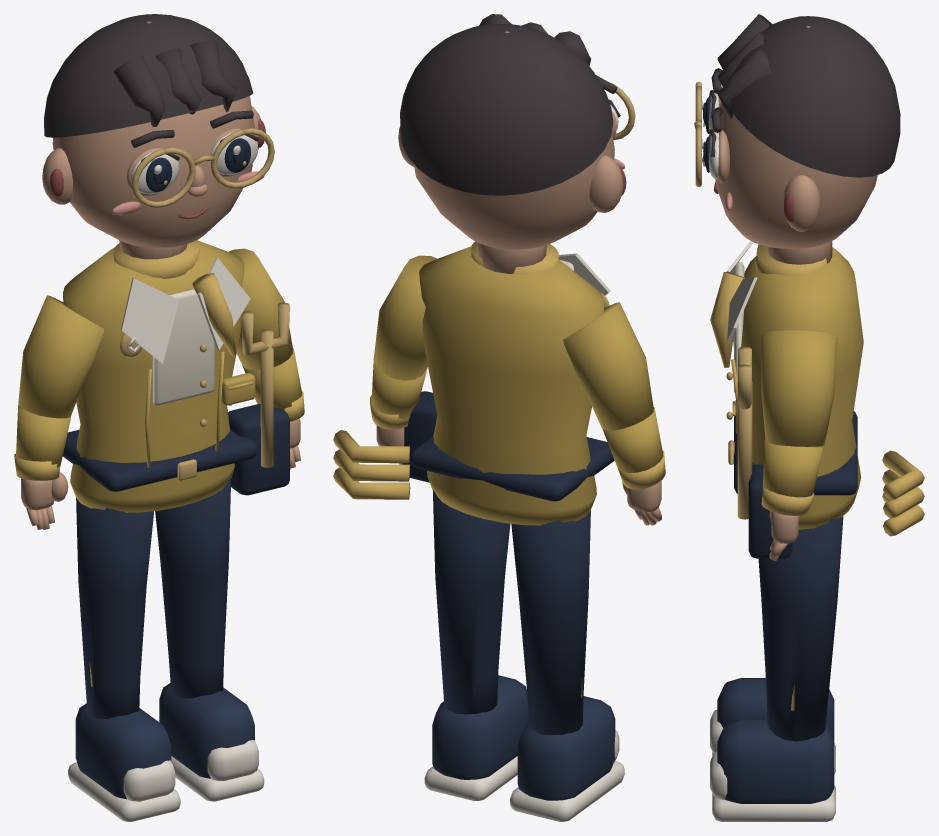
Rendered from npc_region_trainer_4.glb.
3 views of the same model, side by side, from view 1: azimuth 30°, elevation 25°; view 2: azimuth 150°, elevation 25°; view 3: azimuth 270°, elevation 25° (orthographic).
Parts seen in each view (by area): view 1: figure.022; view 2: figure.022; view 3: figure.022.
Boxes of the visible parts, x1=… form: figure.022: x1=14, y1=14, x2=304, y2=821; figure.022: x1=333, y1=14, x2=665, y2=821; figure.022: x1=694, y1=14, x2=924, y2=821.
Bounding box in the file's own units: 0.581 × 1.48 × 0.4053.
